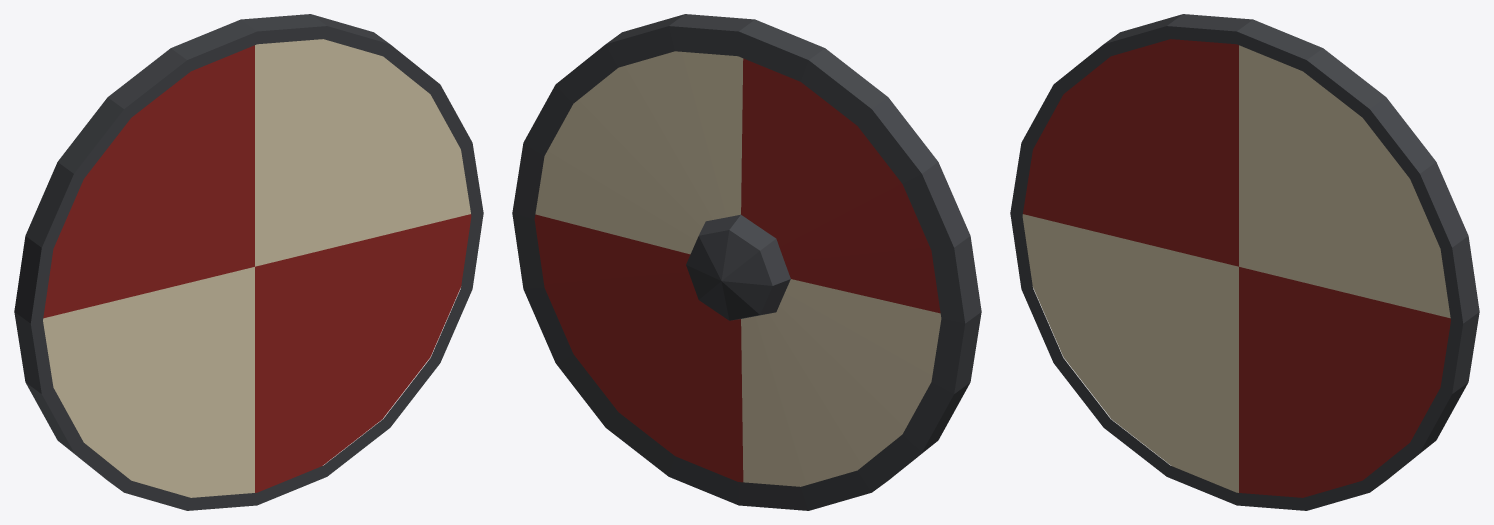
Rendered from Shield.glb.
3 renders of one model, left to right at view 1: azimuth 30°, elevation 25°; view 2: azimuth 150°, elevation 25°; view 3: azimuth 330°, elevation 25°, orthographic.
Visible parts, largest first — view 1: Mat_Cloth_e0d2b2, Mat_Cloth_972b27, Mat_Metal_424448; view 2: Mat_Cloth_e0d2b2, Mat_Cloth_972b27, Mat_Metal_424448; view 3: Mat_Cloth_972b27, Mat_Cloth_e0d2b2, Mat_Metal_424448.
Part boxes in pixels (x1,y1,x2,y2): Mat_Cloth_e0d2b2: (43, 39, 470, 497); Mat_Cloth_972b27: (43, 45, 471, 492); Mat_Metal_424448: (14, 14, 483, 510); Mat_Cloth_e0d2b2: (535, 51, 941, 486); Mat_Cloth_972b27: (534, 58, 940, 482); Mat_Metal_424448: (512, 14, 981, 510); Mat_Cloth_972b27: (1023, 39, 1450, 497); Mat_Cloth_e0d2b2: (1022, 45, 1450, 492); Mat_Metal_424448: (1010, 14, 1479, 510).
Size of the model in its own units: 3.34 by 3.34 by 0.43.
1 material, 1 textured.
